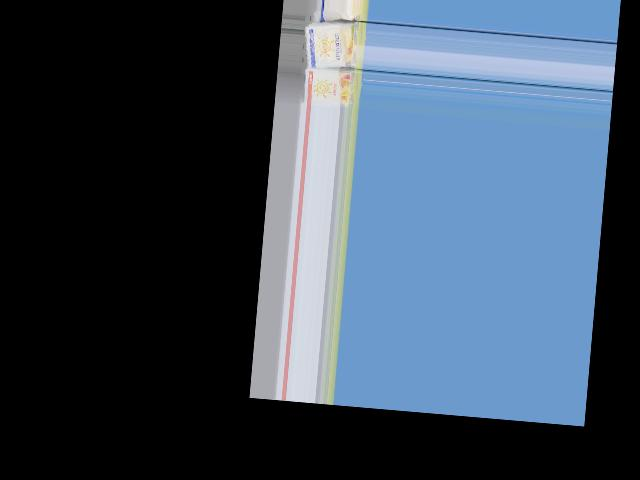cheese: (299, 67, 362, 110)
